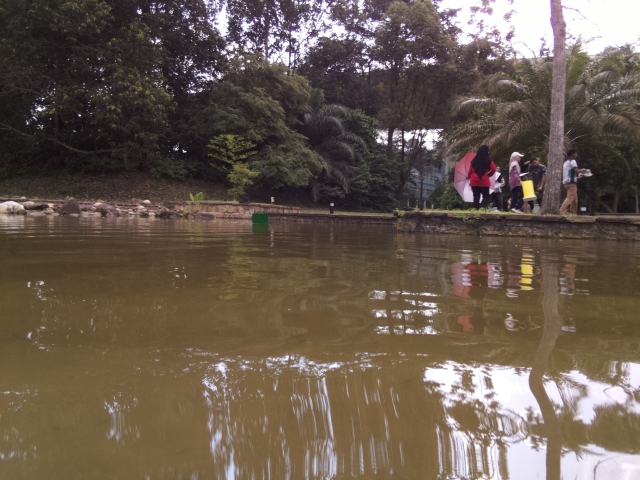obstacle: (251, 211, 270, 225)
